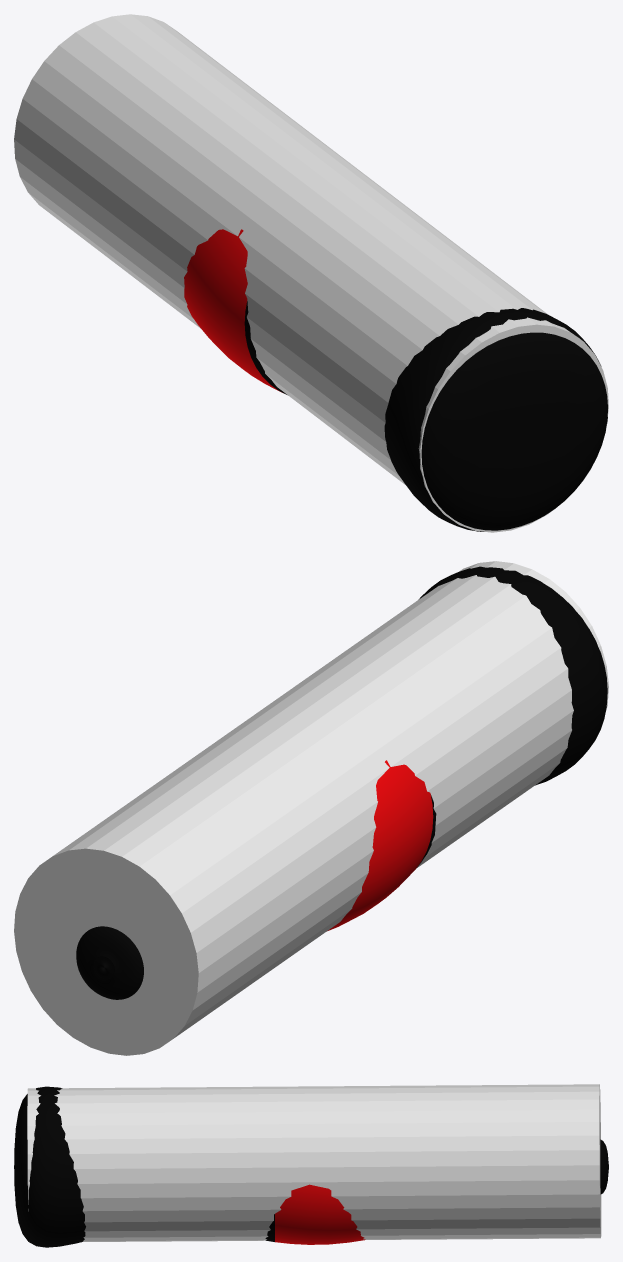
The model's file is soda.fbx.
3 renders of one model, top to bottom at view 1: azimuth 30°, elevation 25°; view 2: azimuth 150°, elevation 25°; view 3: azimuth 270°, elevation 25°, orthographic. The views are drawn at different scales.
Visible parts, largest first — view 1: soda.001, soda; view 2: soda.001, soda; view 3: soda.001, soda.
Part boxes in pixels (x1=…): soda.001: x1=14, y1=14, x2=608, y2=532; soda: x1=184, y1=229, x2=607, y2=531; soda.001: x1=14, y1=561, x2=608, y2=1055; soda: x1=76, y1=566, x2=607, y2=999; soda.001: x1=27, y1=1084, x2=601, y2=1242; soda: x1=14, y1=1086, x2=608, y2=1247.
Bounding box in the file's own units: 511 × 528 × 1888.
